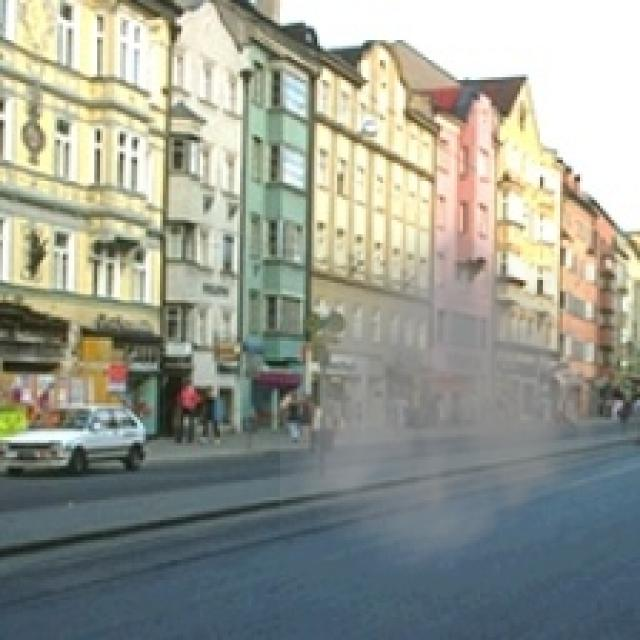smoke: (280, 212, 637, 592)
